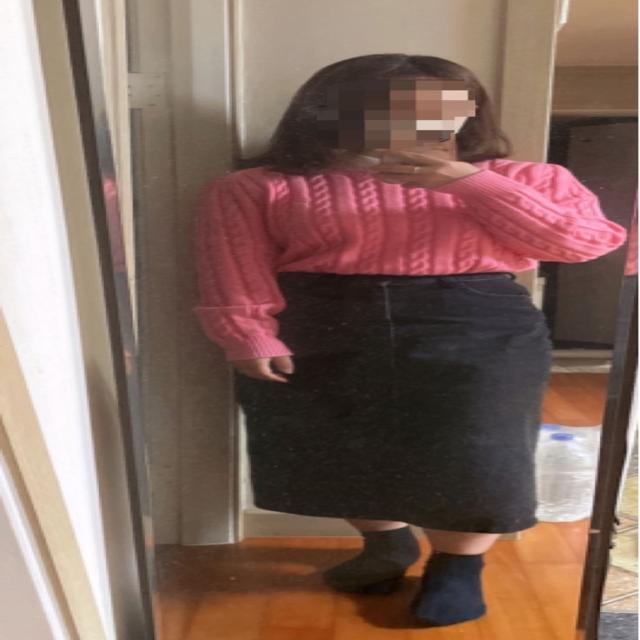skirt: (235, 272, 558, 534)
sweater: (193, 142, 631, 366)
